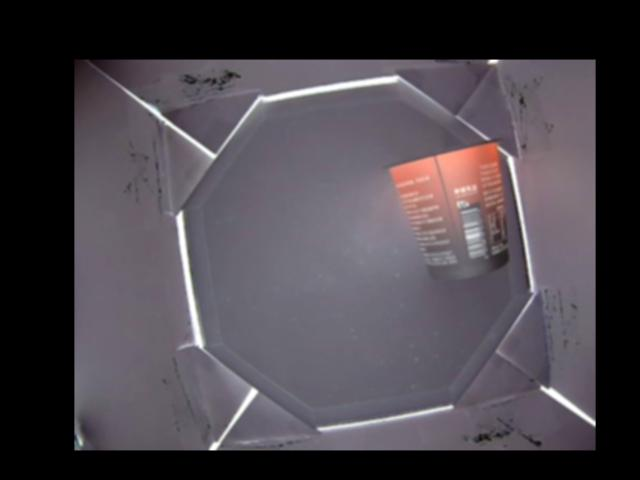Cup: (384, 137, 512, 280)
